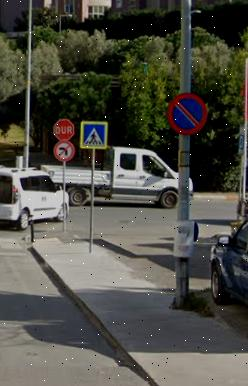leftturnsareforbidden: (53, 141, 74, 161)
nopark: (167, 93, 208, 134)
stop: (54, 120, 74, 140)
